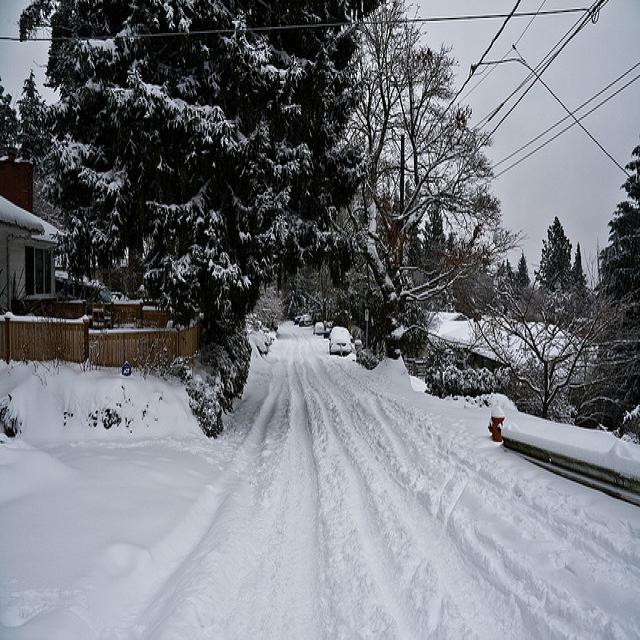Vehicle: (329, 326, 352, 354), (313, 322, 323, 334), (308, 310, 315, 319), (299, 315, 304, 327), (304, 315, 312, 322), (295, 316, 301, 324)
